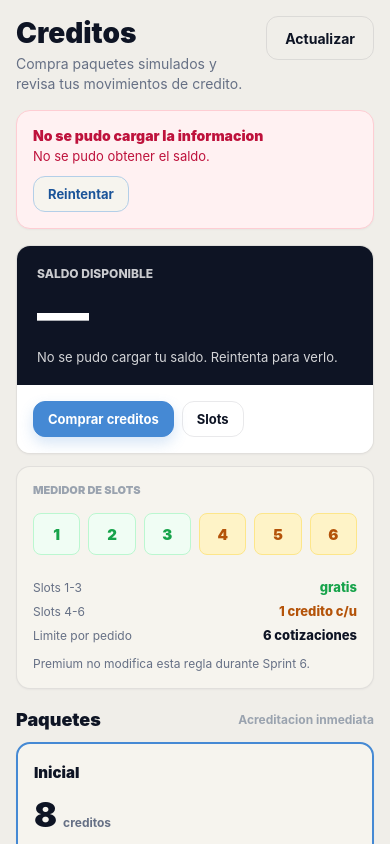
Test: CreditosScreen — saldo › mientras reintenta no acepta otro toque ni duplica la recarga
The image size is (390, 844).
Expected: the text "No se pudo obtener el saldo." is shown, [33,148,210,164]
Click the text "Reintentar": (81, 194) [48,186,114,202]
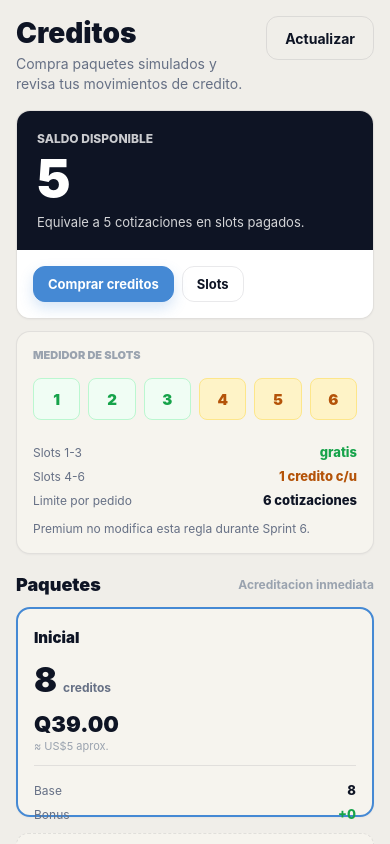
Now the text "Reintentar" is gone
Now the text "Equivale a 5 cotizaciones en slots pagados." is shown, box [37,214,304,230]
